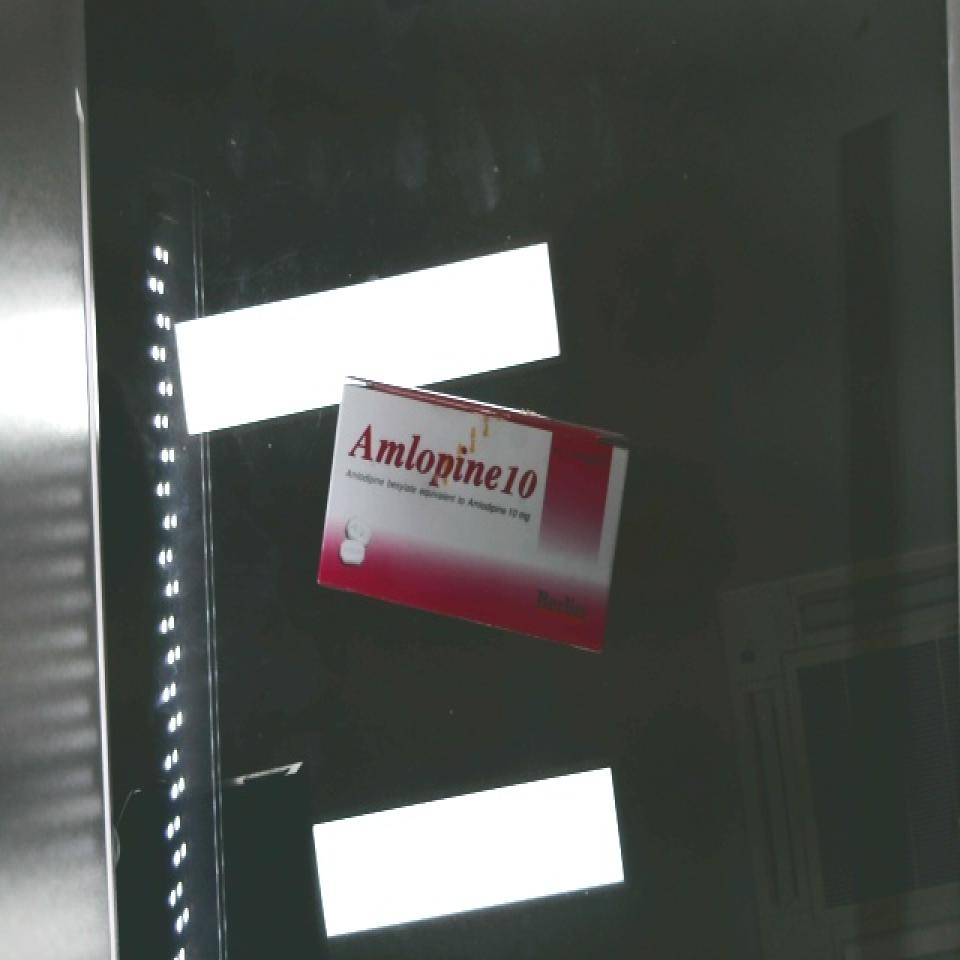medicine_box: (299, 380, 645, 652)
medicine_label_obb: (337, 411, 552, 519)
